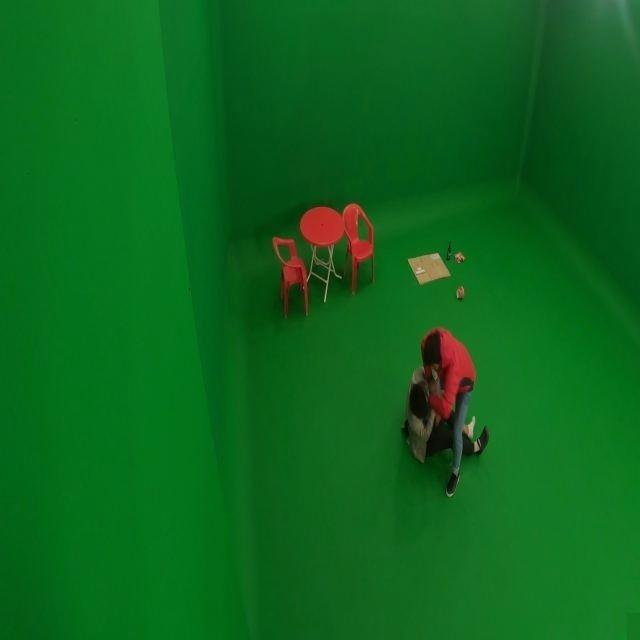fight: (399, 325, 490, 497)
